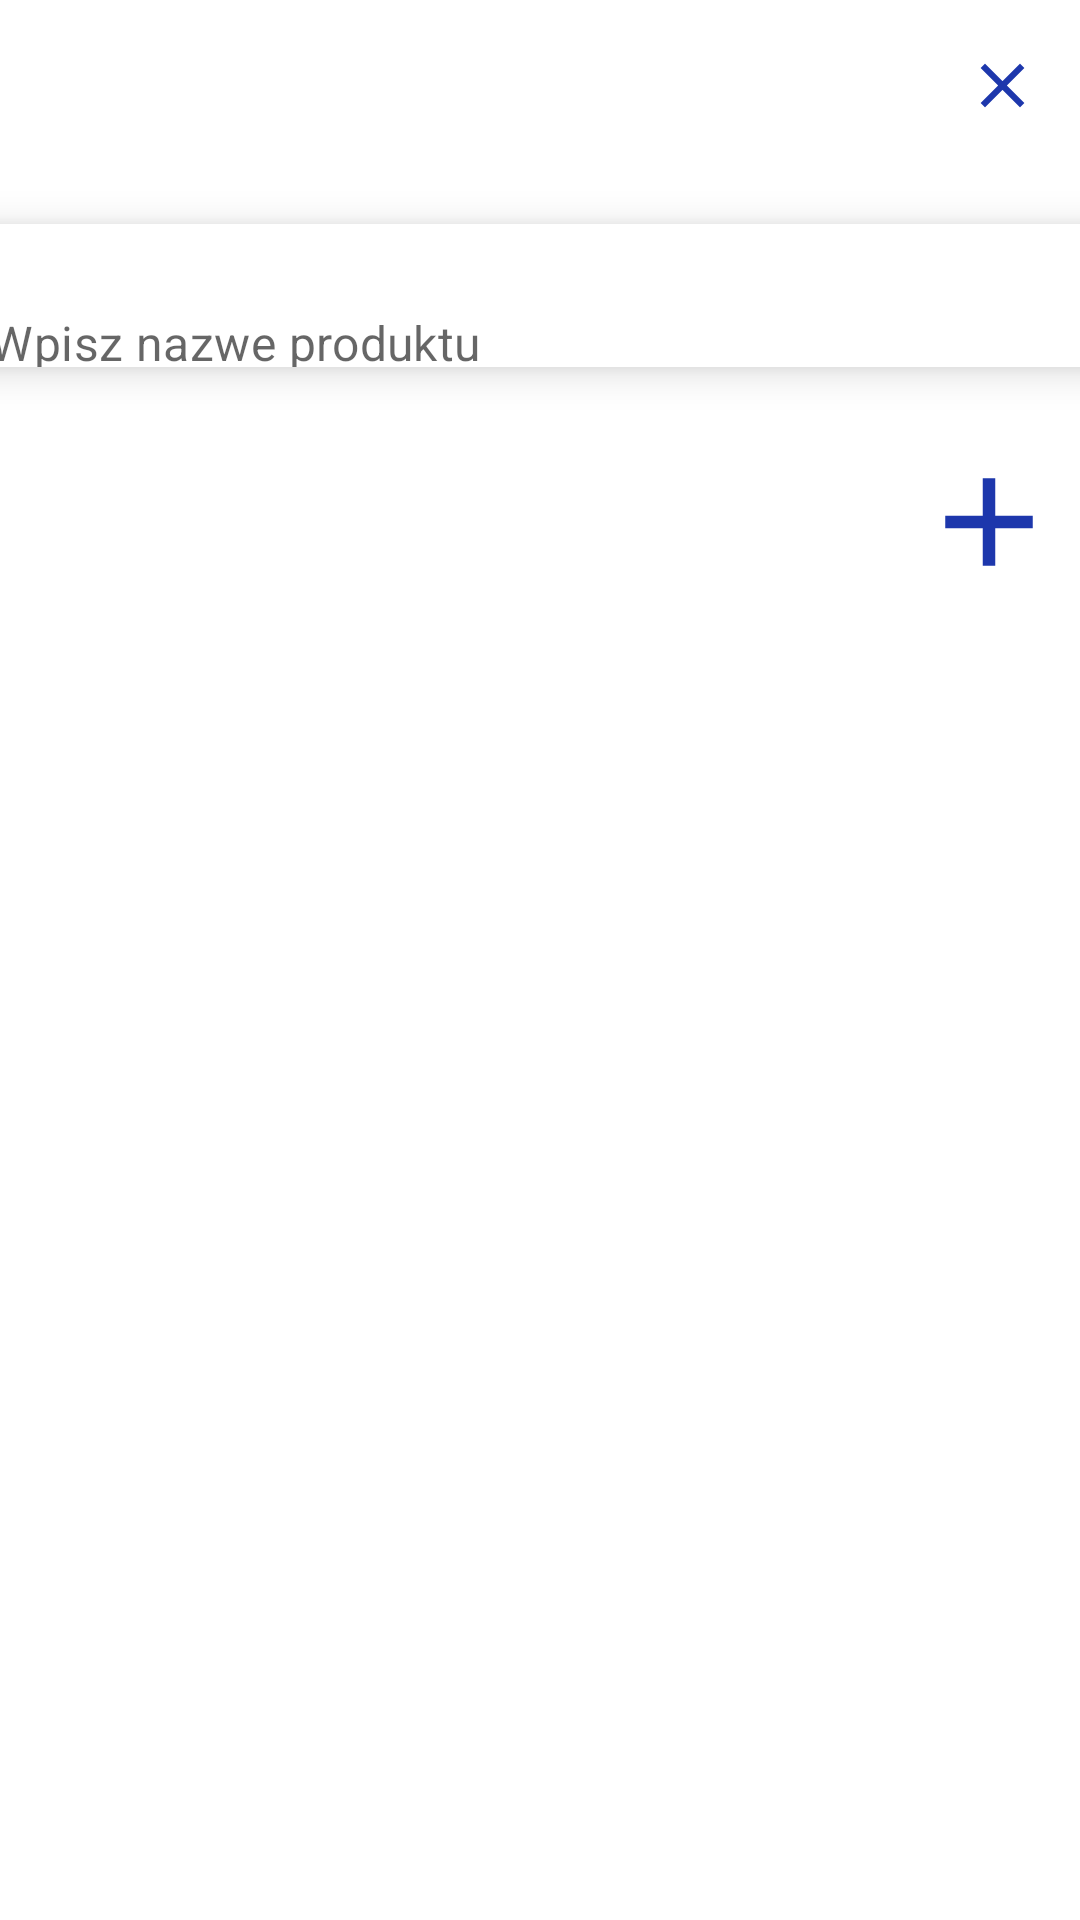

Where icons sit on this 1080*1920 app screen, as region(x1, y1, x2, y2):
add prod: region(945, 478, 1033, 566)
close prod: region(981, 64, 1024, 107)
